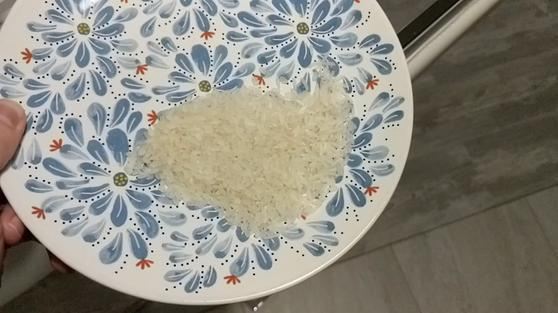rice: (129, 52, 362, 237)
